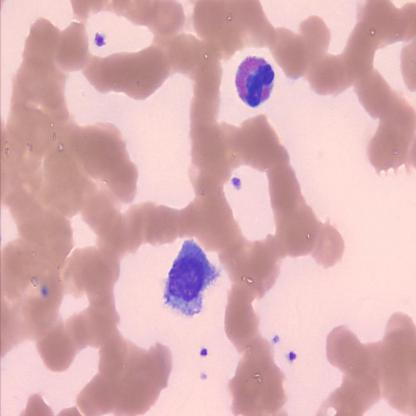Eosinophil: (234, 56, 274, 111)
